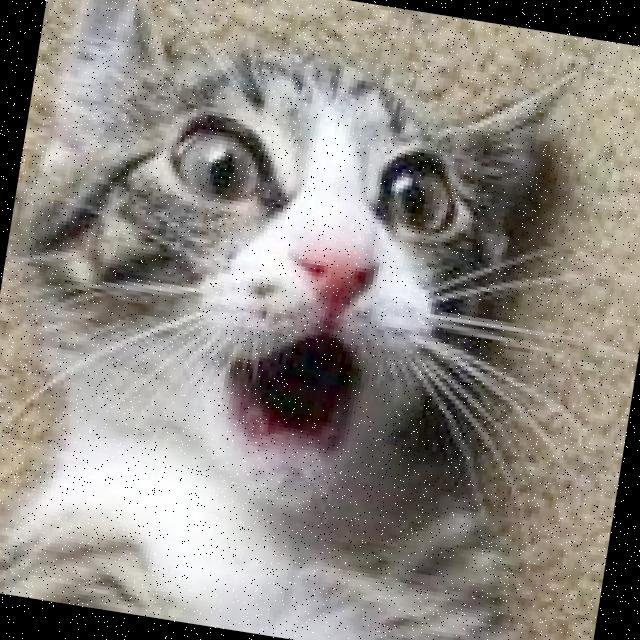Surprised: (72, 73, 527, 546)
